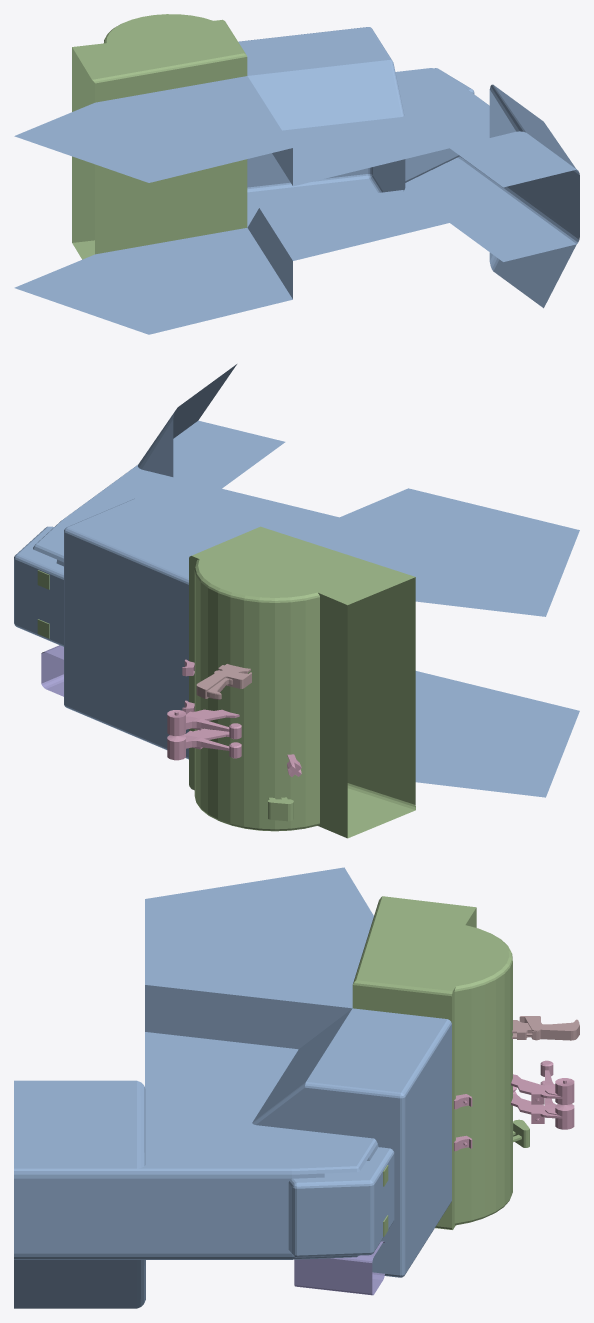
File: dc9-src-throttle-assembly-001.glb
3 views of the same model, one above another, from view 1: azimuth 30°, elevation 25°; view 2: azimuth 150°, elevation 25°; view 3: azimuth 270°, elevation 25° (orthographic). The views are drawn at different scales.
Parts seen in each view (by area): view 1: PedestalBase_0, PedestalDrum; view 2: PedestalBase_0, PedestalDrum, PedestalDrumFace, SpdBrakeLever, ThrottleRevL, ThrottleRevR, PedestalBase_1; view 3: PedestalBase_0, PedestalDrum, PedestalDrumFace, PedestalBase_1, SpdBrakeLever, ThrottleRevL, ThrottleL, ThrottleR, ThrottleRevR.
Boxes of the visible parts, x1,y1,x2,y2 form: PedestalBase_0: [14, 27, 579, 334]; PedestalDrum: [72, 14, 247, 259]; PedestalBase_0: [14, 364, 579, 797]; PedestalDrum: [38, 526, 415, 838]; PedestalDrumFace: [37, 570, 319, 829]; SpdBrakeLever: [196, 664, 251, 699]; ThrottleRevL: [167, 710, 241, 739]; ThrottleRevR: [167, 735, 241, 760]; PedestalBase_1: [41, 645, 63, 696]; PedestalBase_0: [14, 867, 451, 1308]; PedestalDrum: [352, 896, 512, 1236]; PedestalDrumFace: [384, 961, 512, 1235]; PedestalBase_1: [294, 1241, 384, 1295]; SpdBrakeLever: [512, 1016, 579, 1040]; ThrottleRevL: [540, 1060, 574, 1104]; ThrottleL: [511, 1074, 574, 1104]; ThrottleR: [511, 1094, 574, 1123]; ThrottleRevR: [540, 1080, 574, 1129].
Size of the model in its own units: 0.9413 by 0.4 by 0.8586.
